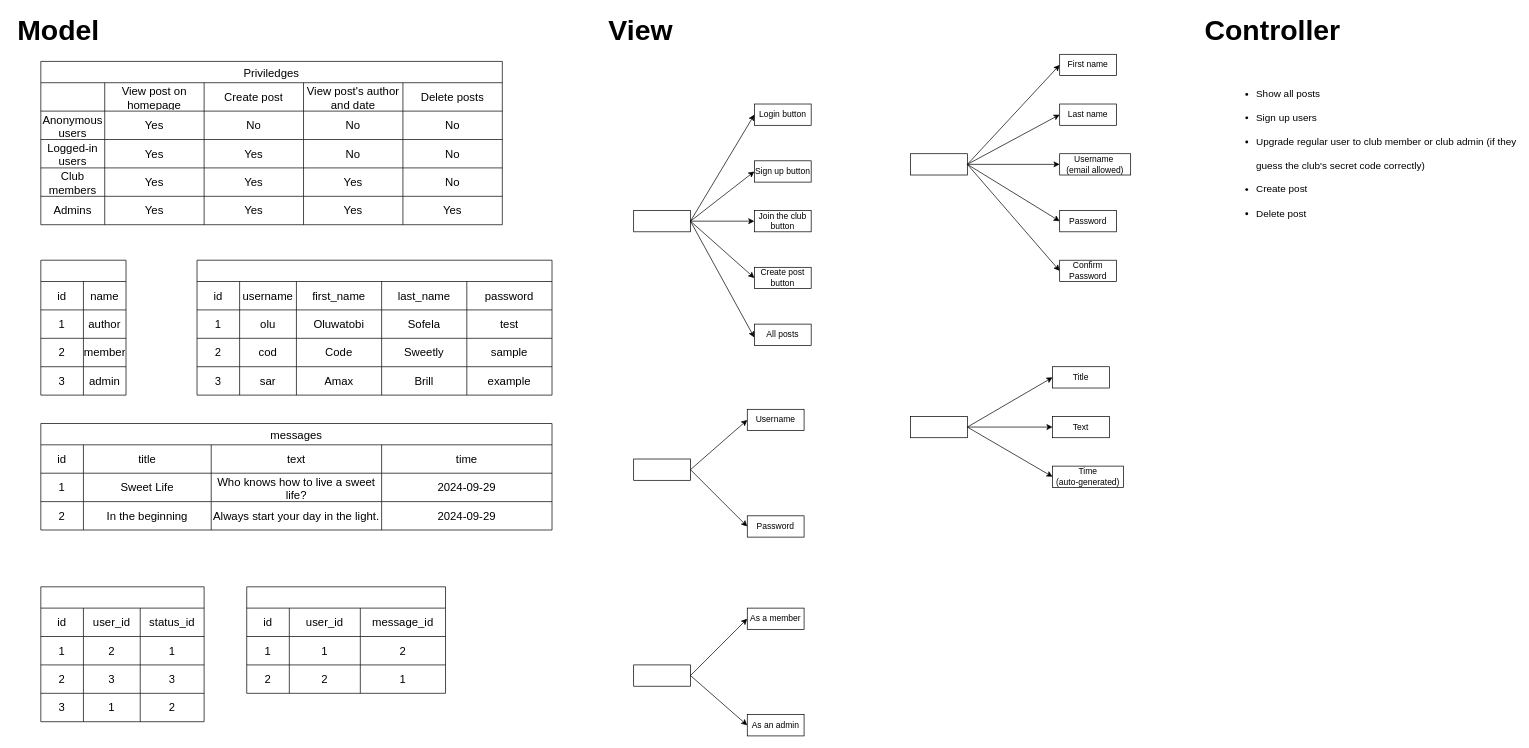
This 1529x748 diagram has some shape labels left out. Here are the shapes that lost their labels. From the top down, the box of each, then its label:
(910, 153, 967, 175): Sign up page
(633, 210, 690, 232): Homepage
(40, 260, 126, 395): statuses
(196, 260, 552, 395): users
(910, 416, 967, 438): Create post page
(633, 458, 690, 480): Login page
(40, 586, 204, 722): user_status
(246, 586, 446, 693): user_message
(633, 664, 690, 686): Join the club page
